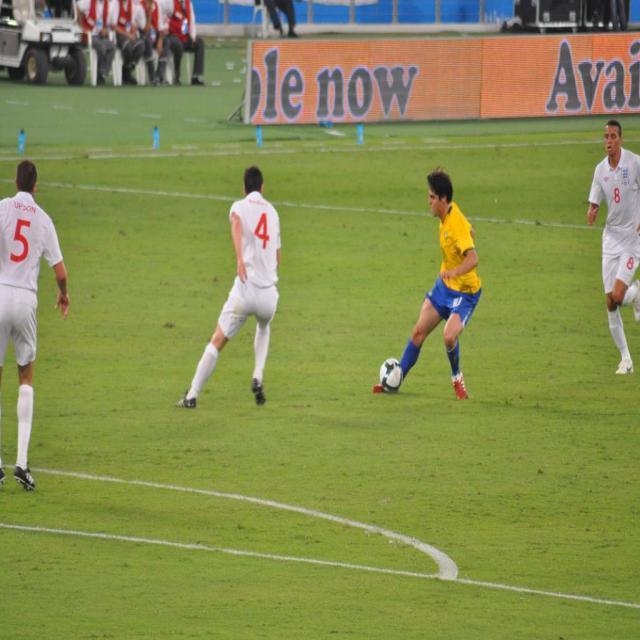football: (365, 348, 408, 401)
